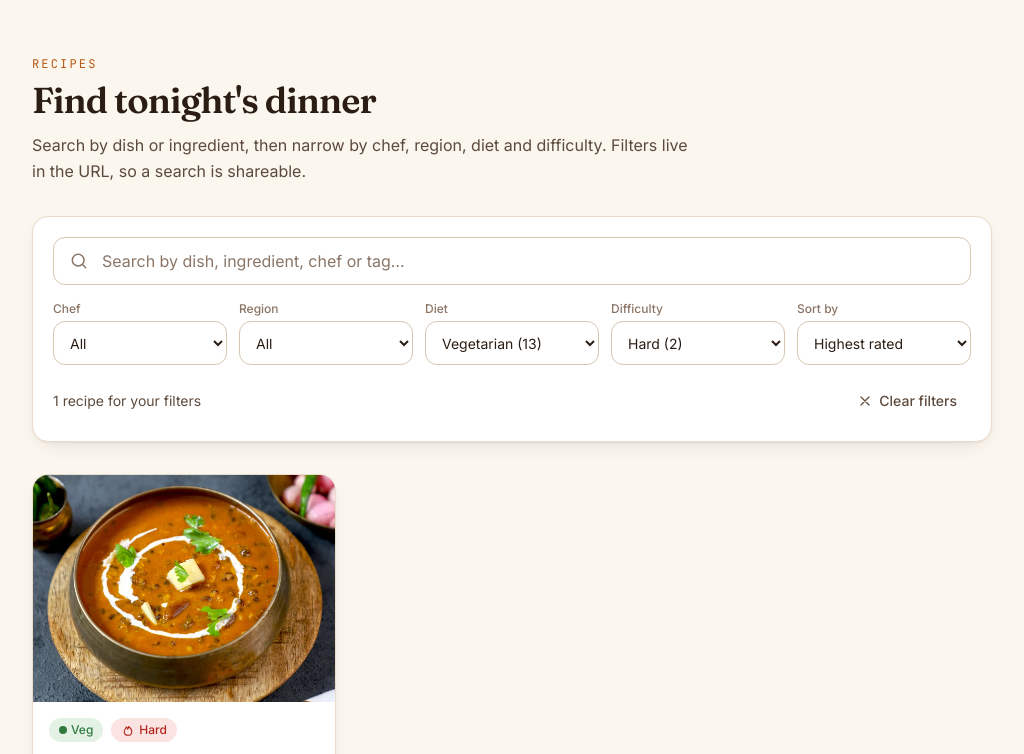
Test: page smoke tests › recipes page filters from the URL and updates the result count
This screenshot has width=1024, height=754.
Expected: the message shows "1 recipe", [53, 392, 104, 409]
In the search field named "Search recipes": point(512, 261) [53, 237, 971, 285], type "zzz"
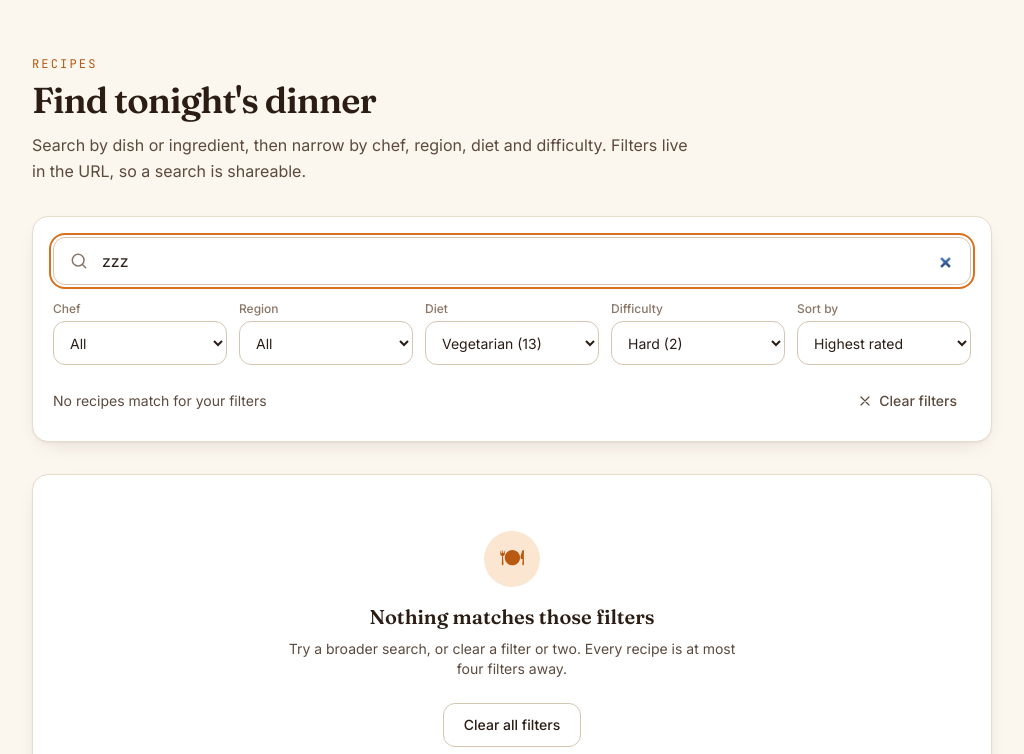
Expected: the heading "Nothing matches those filters" is shown, [370, 603, 655, 631]
